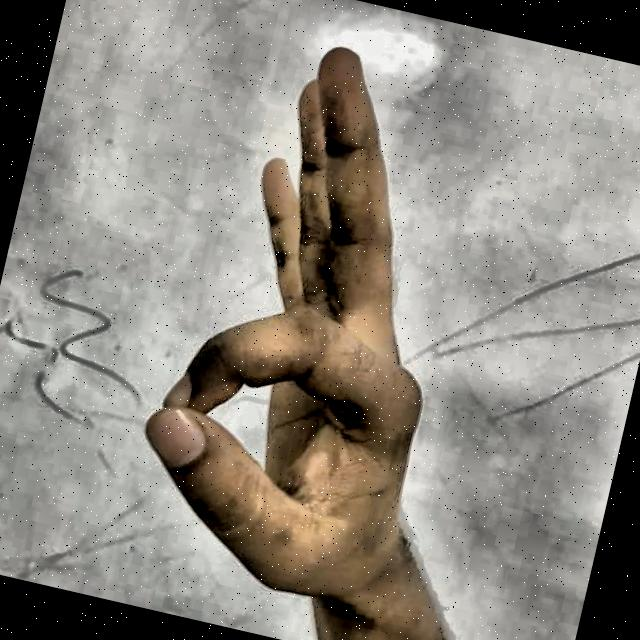Ca: (70, 0, 583, 640)
